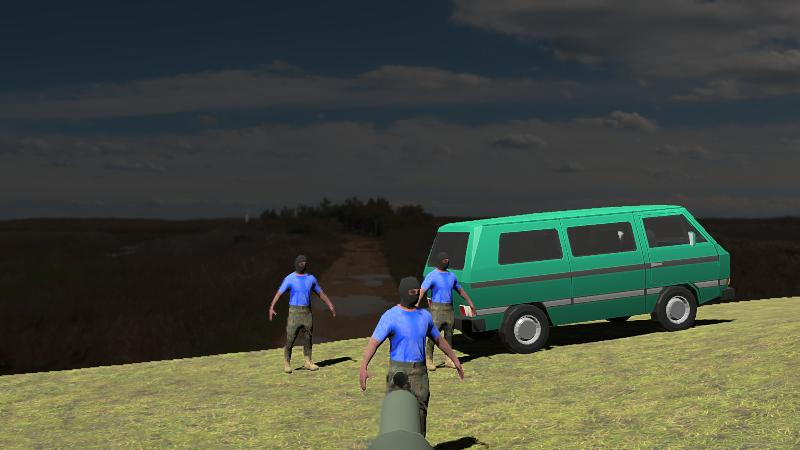Human: (359, 274, 465, 447), (269, 253, 335, 374), (413, 249, 474, 378)
car: (415, 206, 732, 354)
